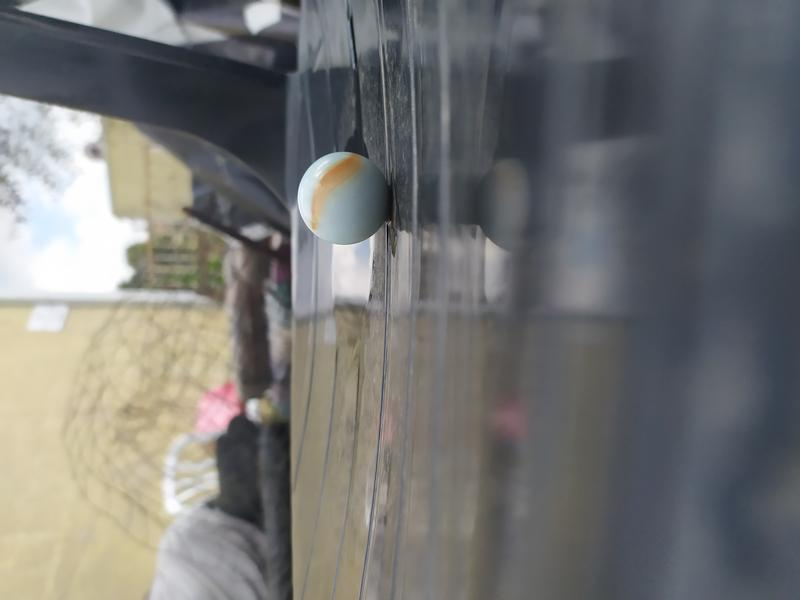Warning: (293, 148, 394, 247)
